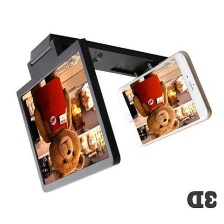phone: (113, 47, 214, 150)
